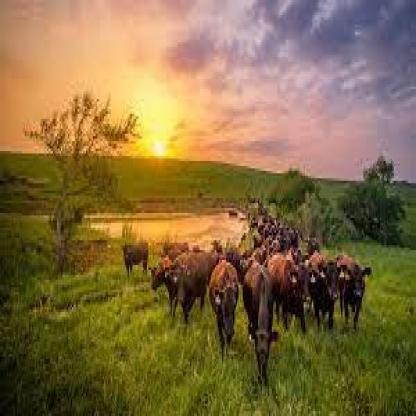cow: (245, 262, 276, 376), (269, 254, 309, 328), (209, 261, 240, 353), (336, 256, 370, 328), (176, 258, 209, 320), (152, 253, 181, 317), (313, 260, 342, 322), (123, 238, 147, 277)
